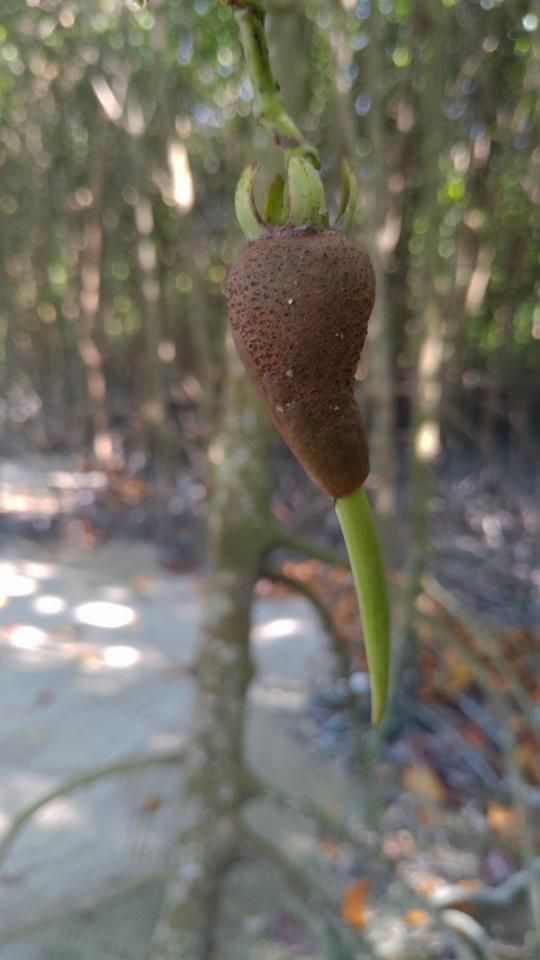mentah: (220, 155, 428, 753)
